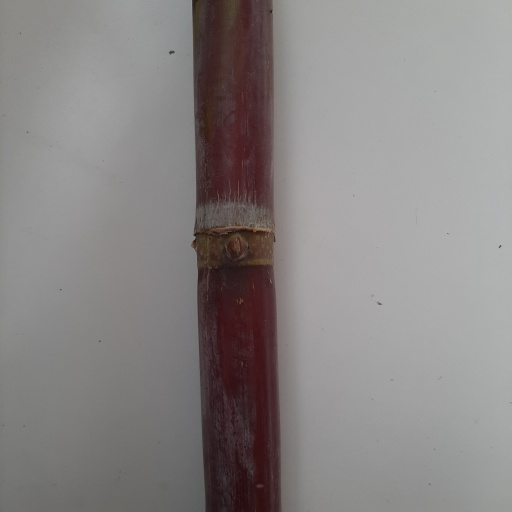Bud: (223, 234, 248, 262)
